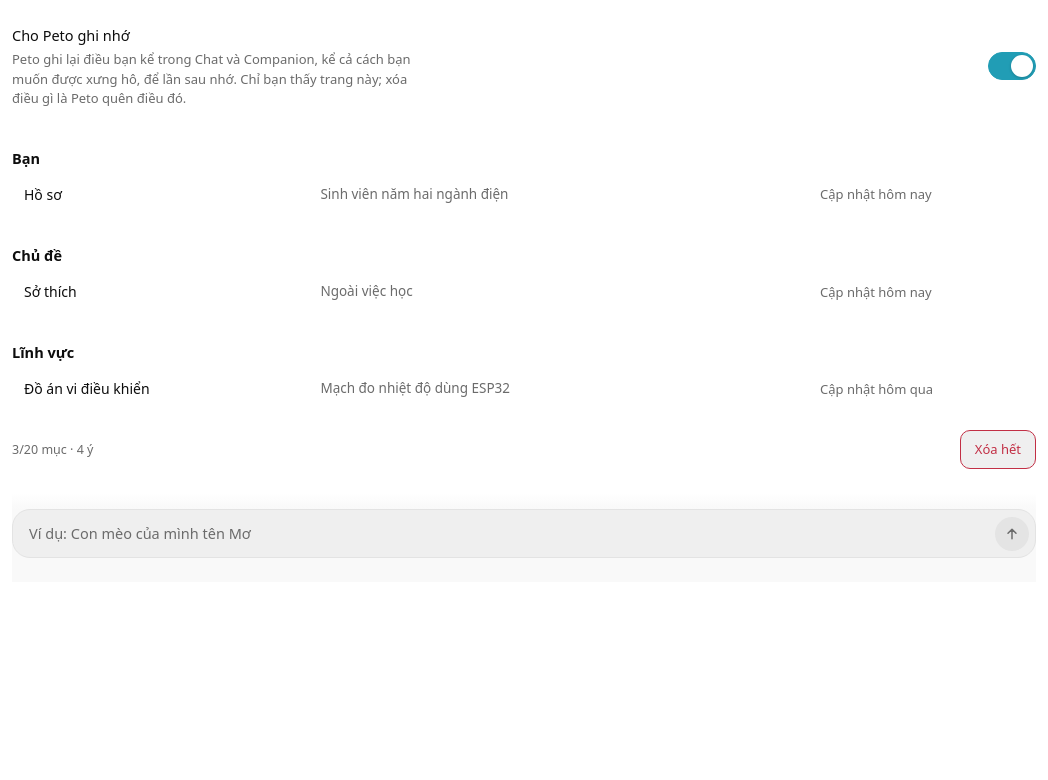
it: Bảo Peto trong trang chi tiết gửi kèm id mục và báo ngay trên ô nhập
Click the button "Đồ án vi điều khiển" at (484, 389), box [12,366,956,412]
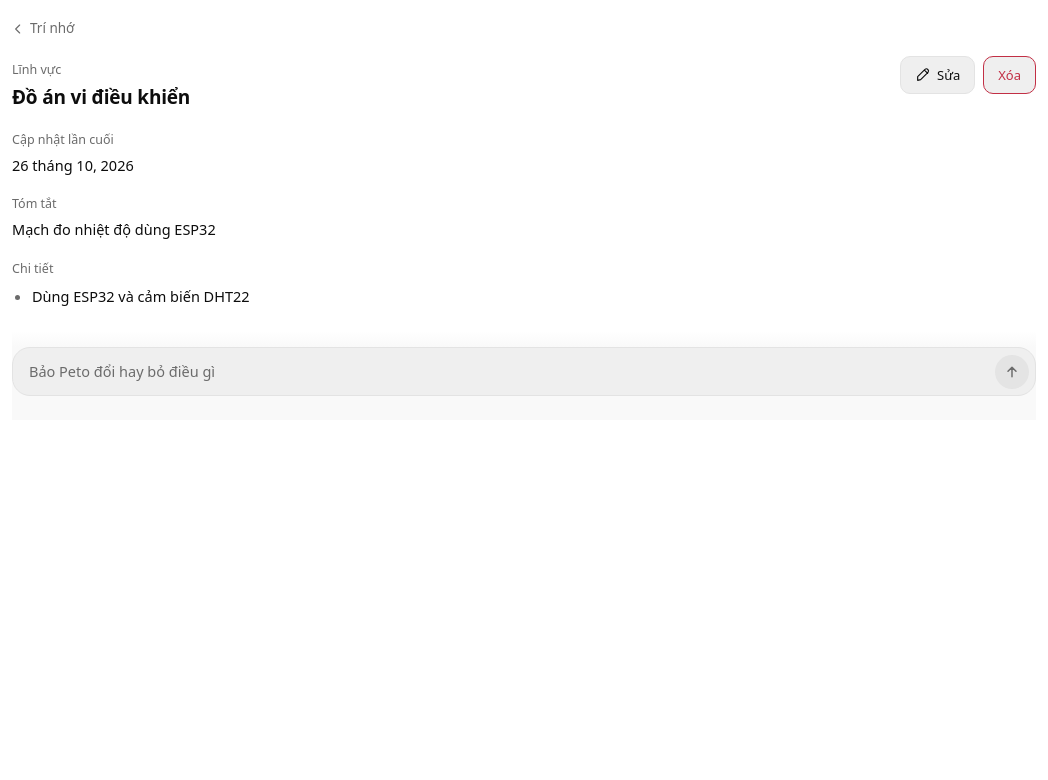
Type "bỏ cảm biến DHT22" into the text box named "Bảo Peto đổi hay bỏ điều gì trong Đồ án vi điều khiển" at (508, 372), box [29,354,987,389]
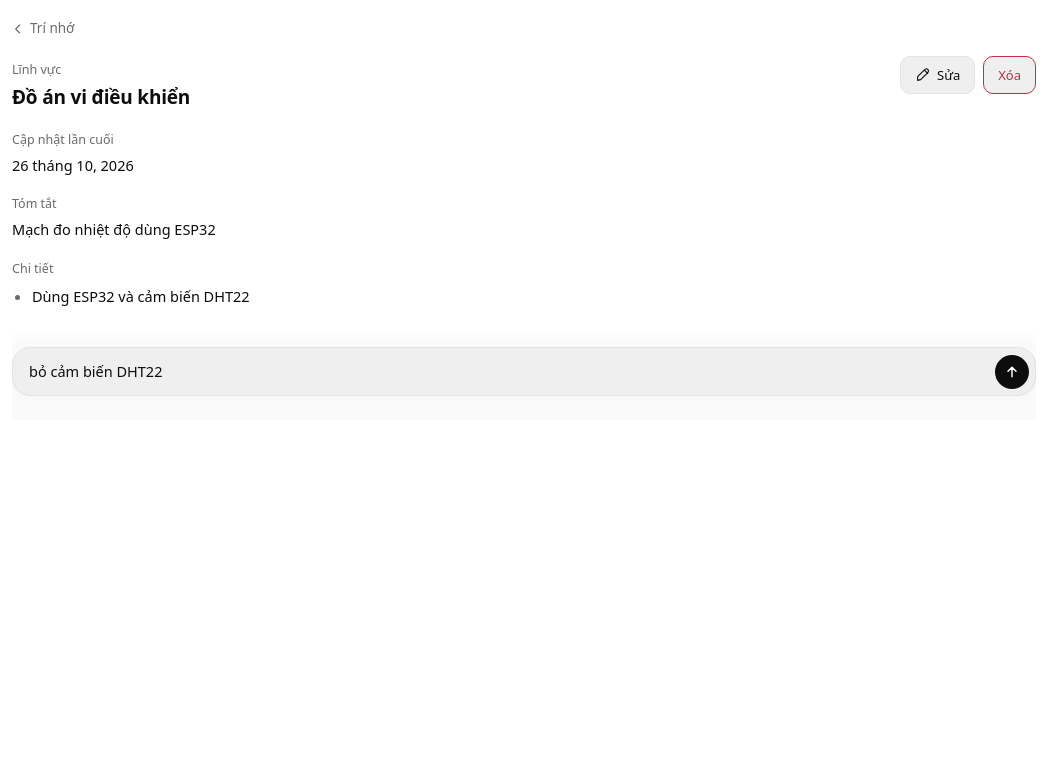
Press Enter in the text box named "Bảo Peto đổi hay bỏ điều gì trong Đồ án vi điều khiển", box [29,354,987,389]
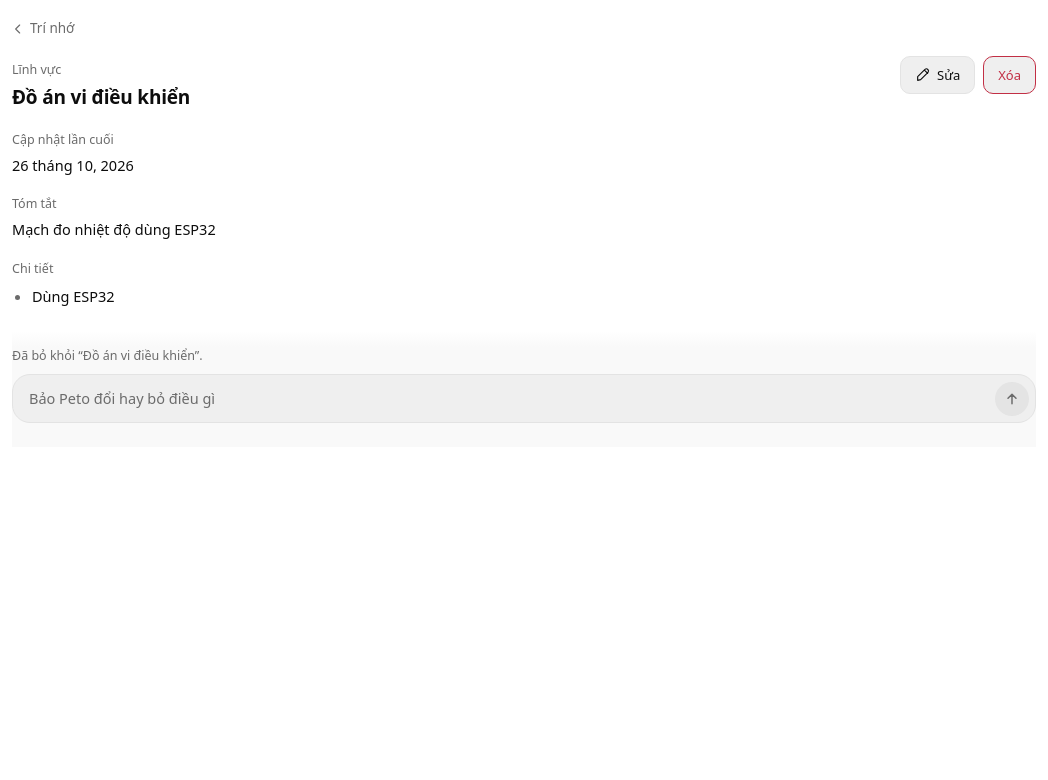
Expected: the list item "Dùng ESP32" is shown, [32,286,115,306]
Expected: the message reads "Đã bỏ khỏi “Đồ án vi điều khiển”.", [12,347,203,364]
